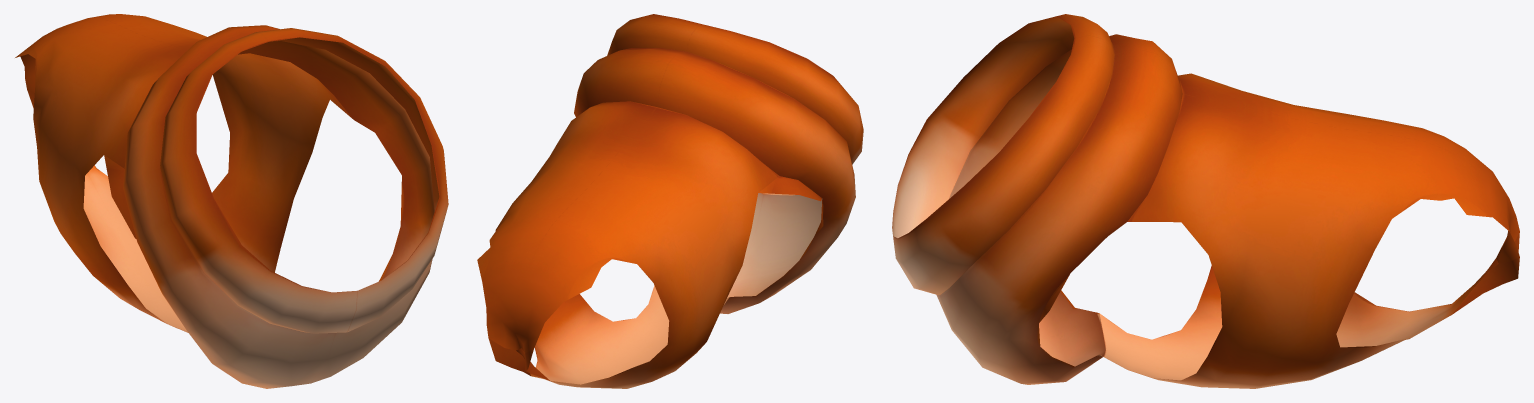
Rendered from DogBody.obj.
The picture shows the model from 3 angles, left to right: view 1: azimuth 30°, elevation 25°; view 2: azimuth 150°, elevation 25°; view 3: azimuth 270°, elevation 25°; orthographic projection. The views are drawn at different scales.
Parts seen in each view (by area): view 1: Dog_Body; view 2: Dog_Body; view 3: Dog_Body.
Boxes of the visible parts, x1=… form: Dog_Body: x1=15, y1=14, x2=448, y2=388; Dog_Body: x1=477, y1=14, x2=863, y2=388; Dog_Body: x1=892, y1=14, x2=1519, y2=388.
Size of the model in its own units: 0.3454 by 0.382 by 0.6313.
Materials: 1 (1 with a texture image).
